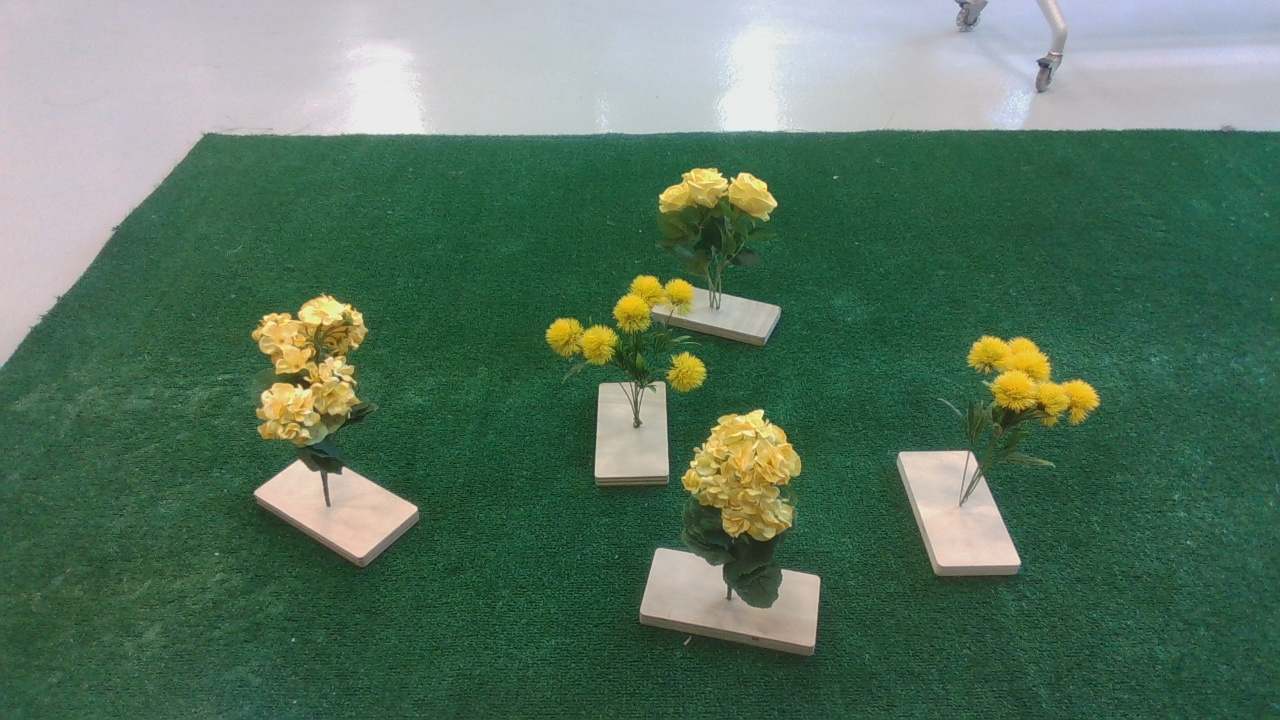dandelion: (935, 332, 1118, 442), (543, 278, 707, 398)
geranium: (228, 297, 405, 452), (683, 410, 825, 563)
rose: (639, 169, 810, 262)
